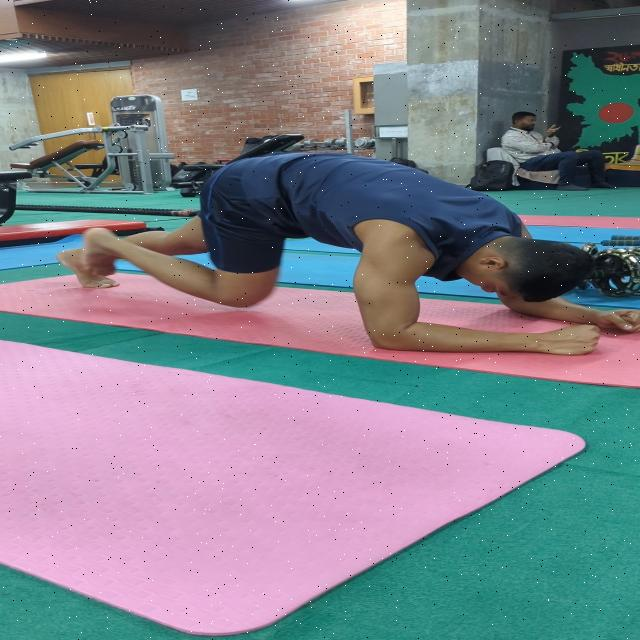Normal_MountainClimbers: (35, 129, 640, 374)
